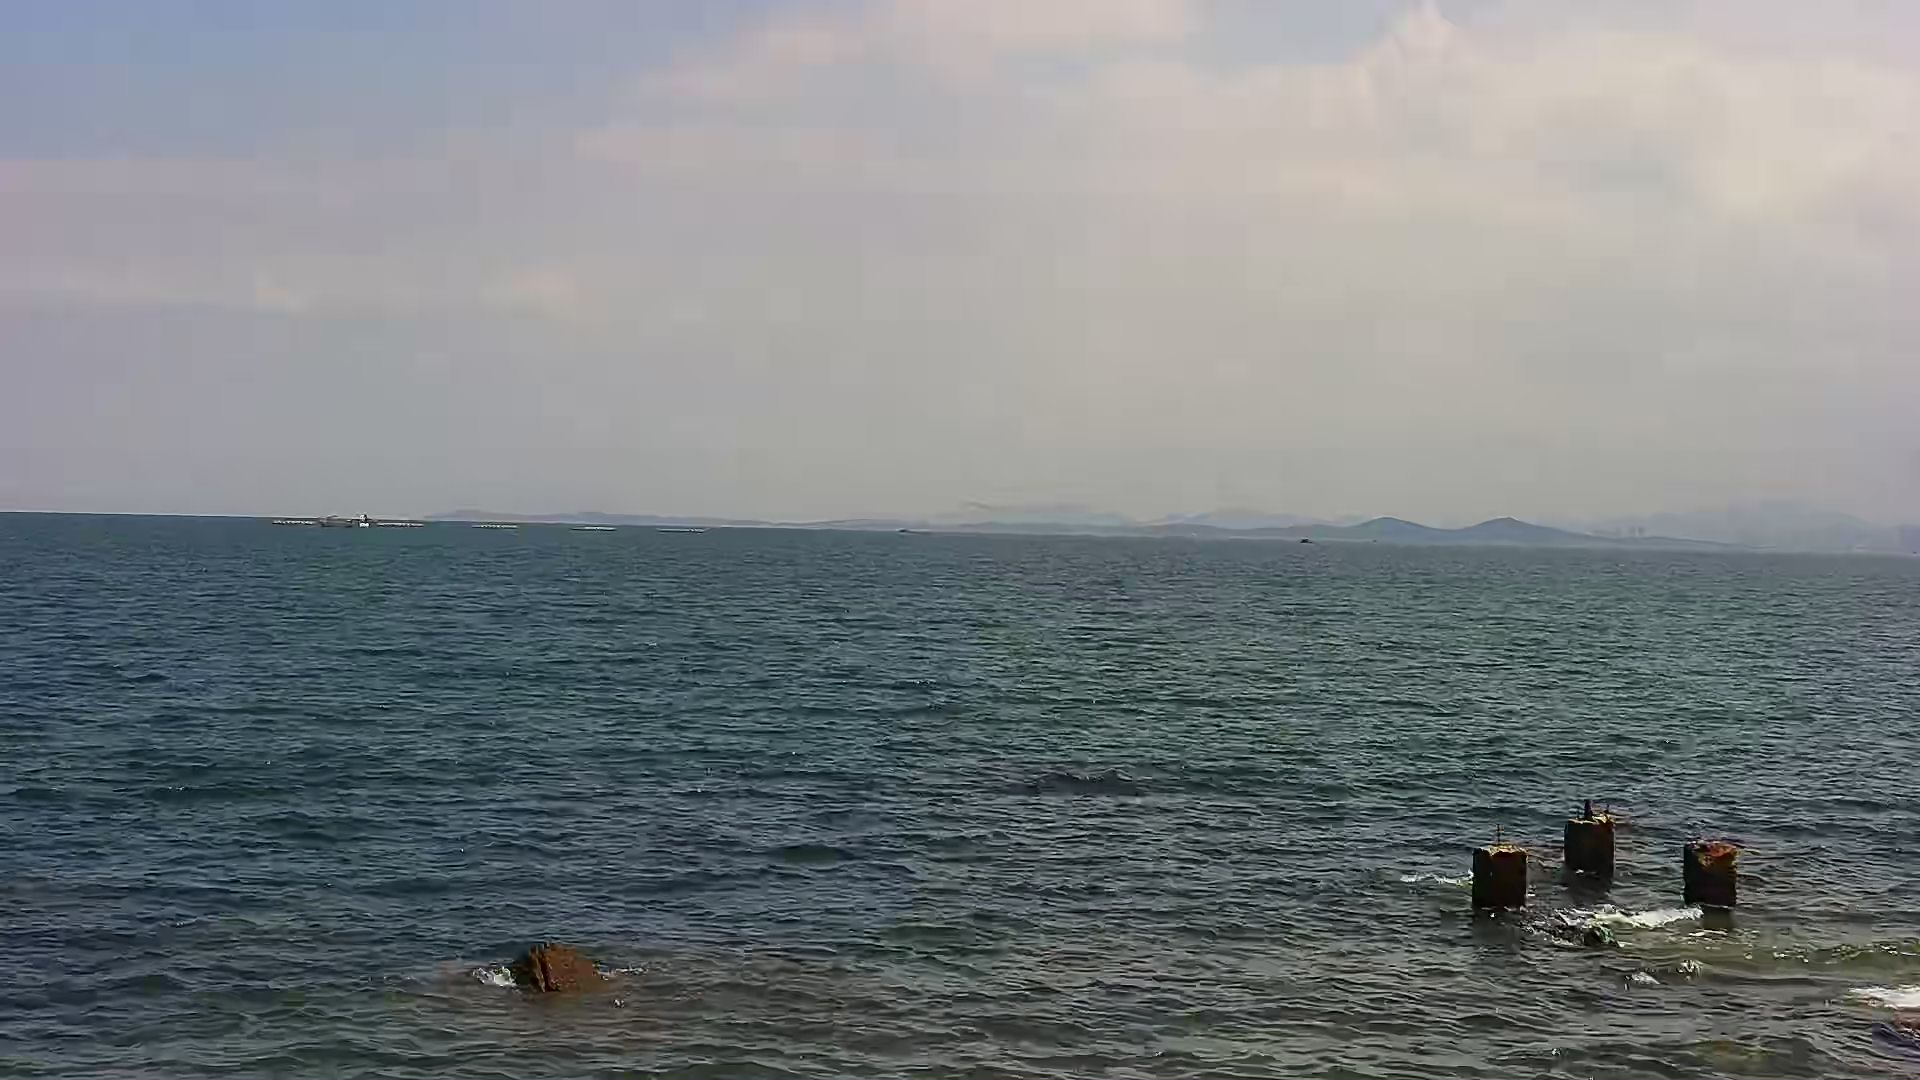platform: (261, 505, 320, 530), (324, 502, 373, 531), (377, 512, 427, 534), (469, 512, 524, 530), (567, 520, 622, 537), (657, 525, 715, 538), (1295, 533, 1321, 546)
rock: (467, 924, 651, 1002), (1671, 818, 1771, 928), (1458, 810, 1545, 922), (1553, 781, 1626, 891)
